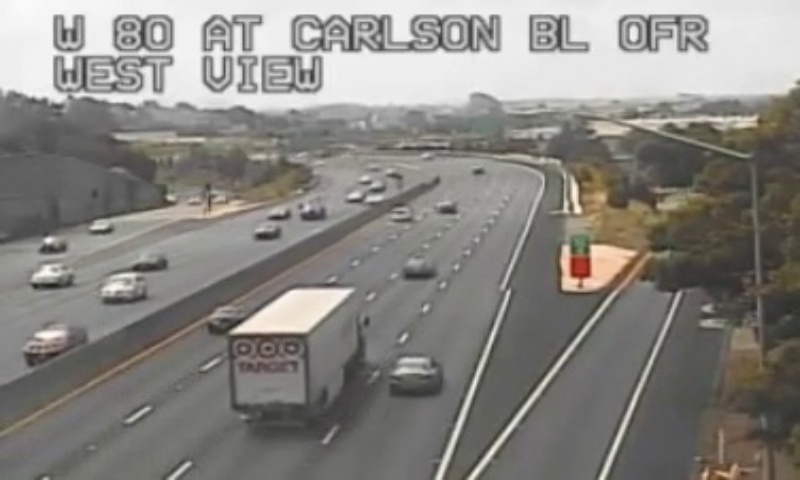car: (389, 355, 438, 391), (210, 304, 246, 332)
truck: (225, 285, 363, 425)
